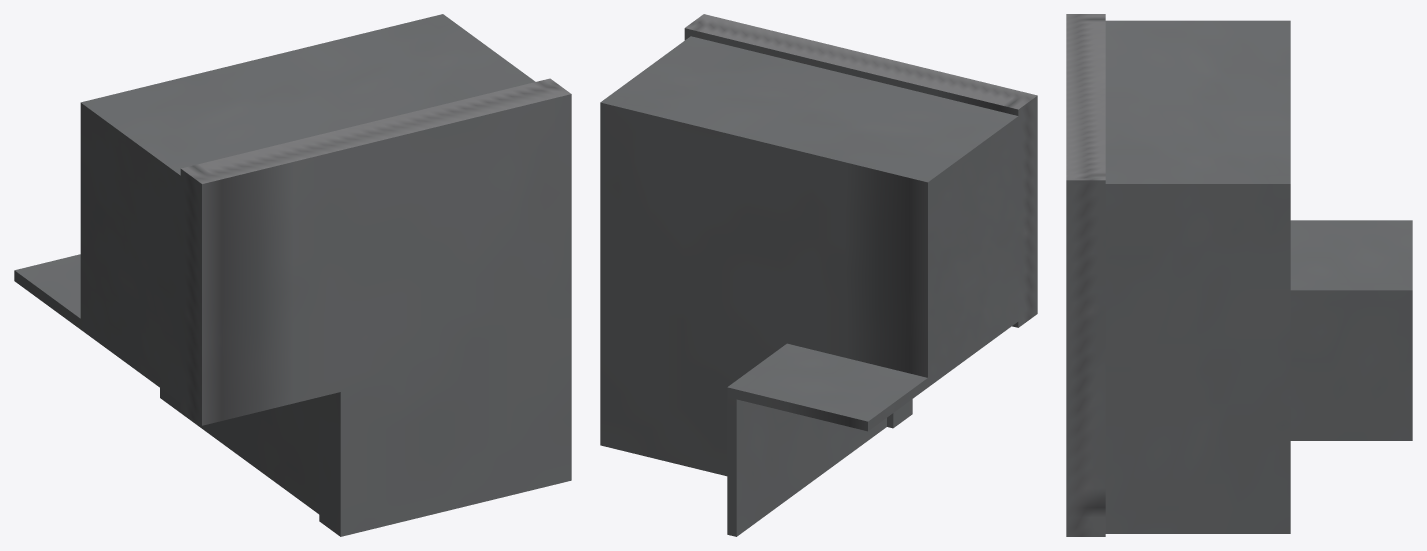
File: pz_counter_steel_corner.obj
The picture shows the model from 3 angles, left to right: view 1: azimuth 30°, elevation 25°; view 2: azimuth 150°, elevation 25°; view 3: azimuth 270°, elevation 25°; orthographic projection. The views are drawn at different scales.
Bounding box in the file's own units: 1 × 1 × 0.88.
1 material, 1 textured.
